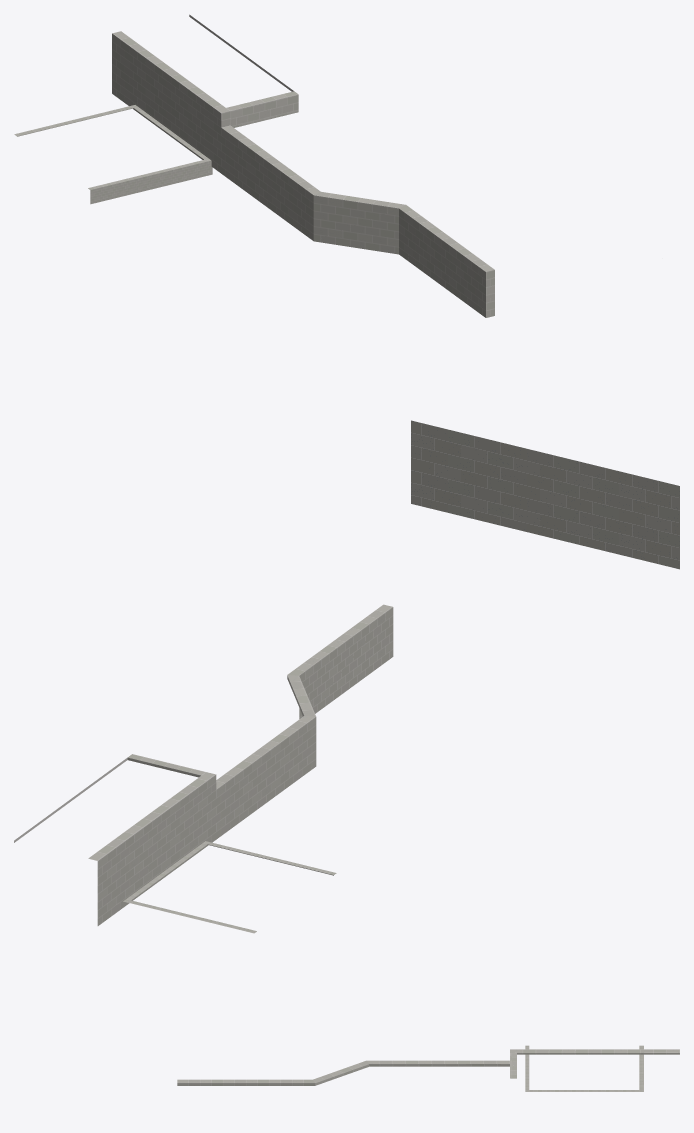
The model's file is kd_stage_135ded_3_0_exterior.glb.
The picture shows the model from 3 angles, top to bottom: view 1: azimuth 30°, elevation 25°; view 2: azimuth 150°, elevation 25°; view 3: azimuth 270°, elevation 25°; orthographic projection. The views are drawn at different scales.
Visible parts, largest first — view 1: kd_stage_135ded_3_0_exterior; view 2: kd_stage_135ded_3_0_exterior; view 3: kd_stage_135ded_3_0_exterior.
Part boxes in pixels (x1,y1,x2,y2): kd_stage_135ded_3_0_exterior: (14,14,494,317); kd_stage_135ded_3_0_exterior: (14,420,679,933); kd_stage_135ded_3_0_exterior: (177,1045,679,1091).
Size of the model in its own units: 5.72 by 2.68 by 16.3.
1 material, 1 textured.
